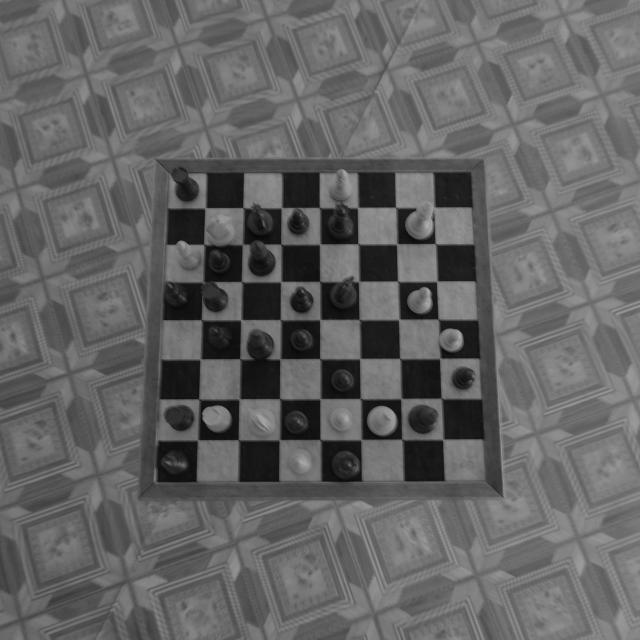chessboard: (156, 172, 487, 481)
